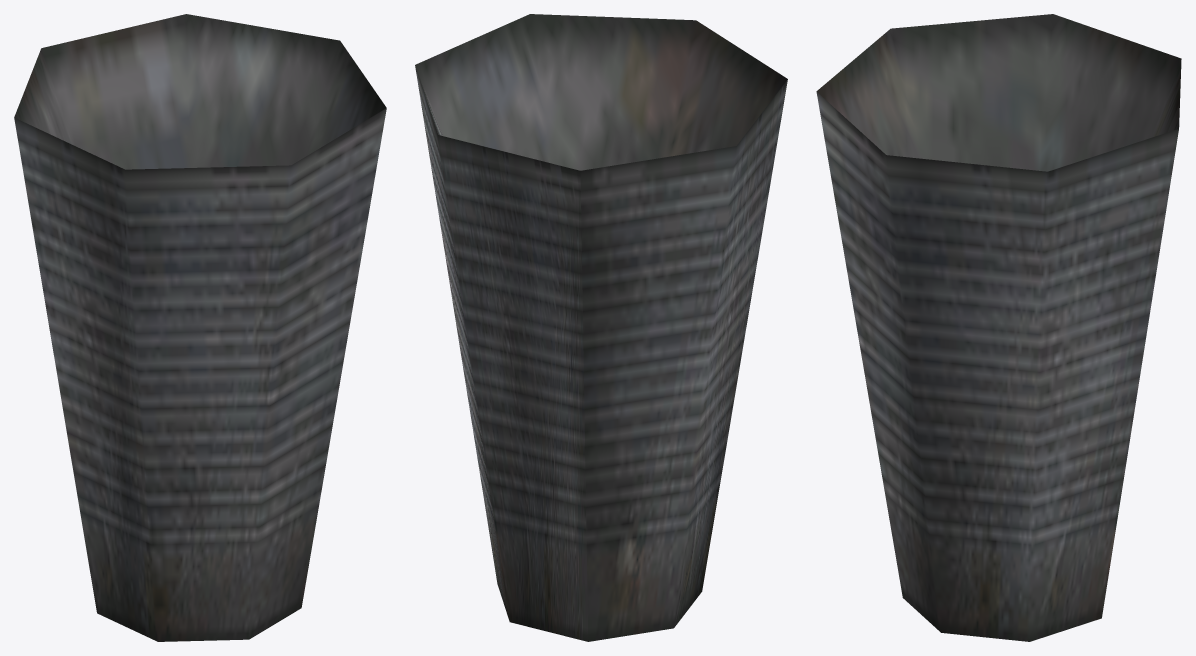
Rendered from edb_con_glass_s1_empty_l0.fbx.
3 renders of one model, left to right at view 1: azimuth 30°, elevation 25°; view 2: azimuth 150°, elevation 25°; view 3: azimuth 270°, elevation 25°, orthographic.
Visible parts, largest first — view 1: mesh_node; view 2: mesh_node; view 3: mesh_node.
Part boxes in pixels (x1,y1,x2,y2): mesh_node: (14,14,386,641); mesh_node: (415,14,787,641); mesh_node: (816,14,1181,641).
Size of the model in its own units: 0.1253 by 0.1875 by 0.1226.
